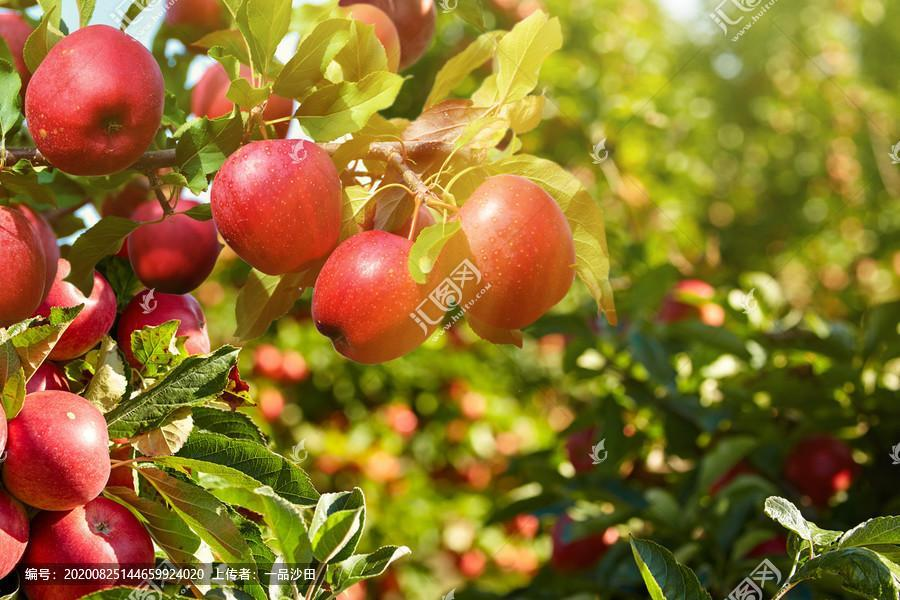apple: (433, 175, 579, 331), (24, 22, 166, 177), (208, 136, 342, 279), (311, 227, 448, 365), (16, 498, 153, 598), (1, 388, 109, 510), (667, 277, 714, 316), (698, 301, 724, 326)
